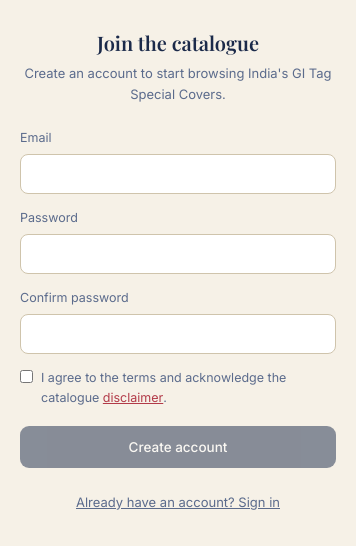
Test: Signup › shows the real Supabase error message on a genuine signup failure — e.g. a weak password
This screenshot has width=356, height=546.
In the field labelled "Email": (178, 174) [20,154,336,194], type "new@example.test"
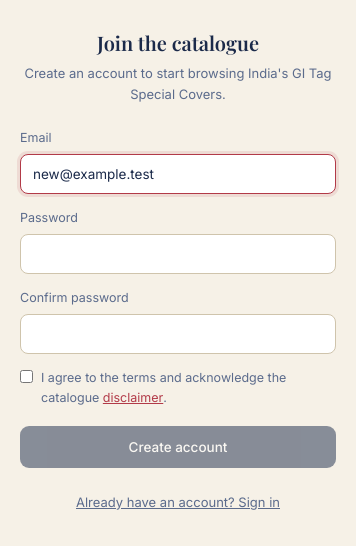
In the password field labelled "Password": (178, 254) [20,234,336,274], type "a-real-password"
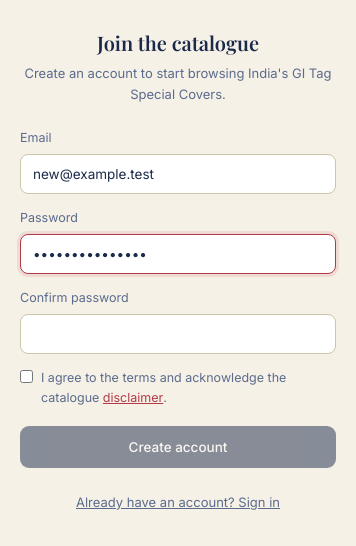
In the password field labelled "Confirm password": (178, 334) [20,314,336,354], type "a-real-password"
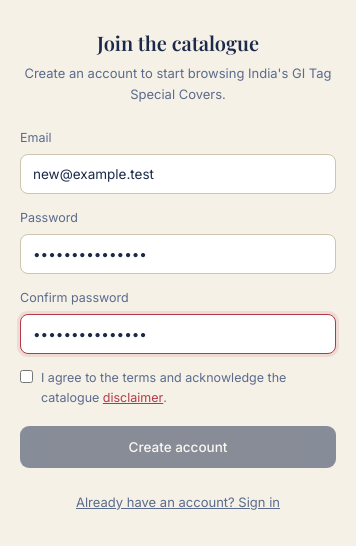
Click the checkbox: (26, 377) [20,370,33,383]
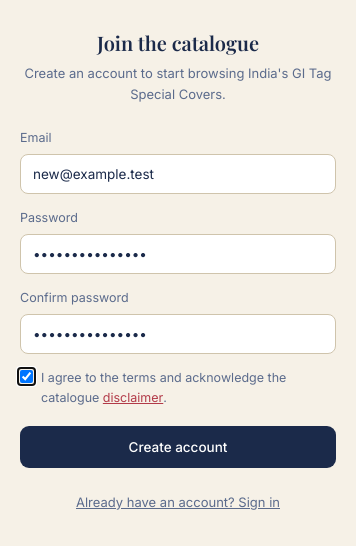
Click the button "Create account": (178, 447) [20,426,336,468]
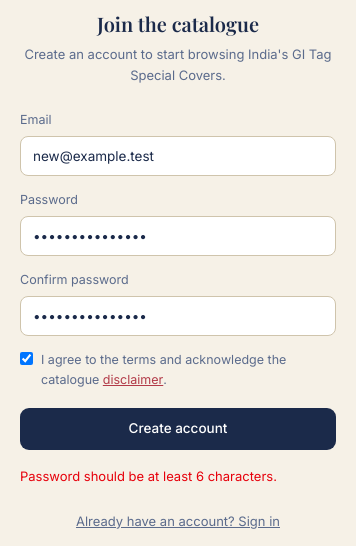
Expected: the text "Password should be at least 6 characters." is shown, [20,468,277,484]
